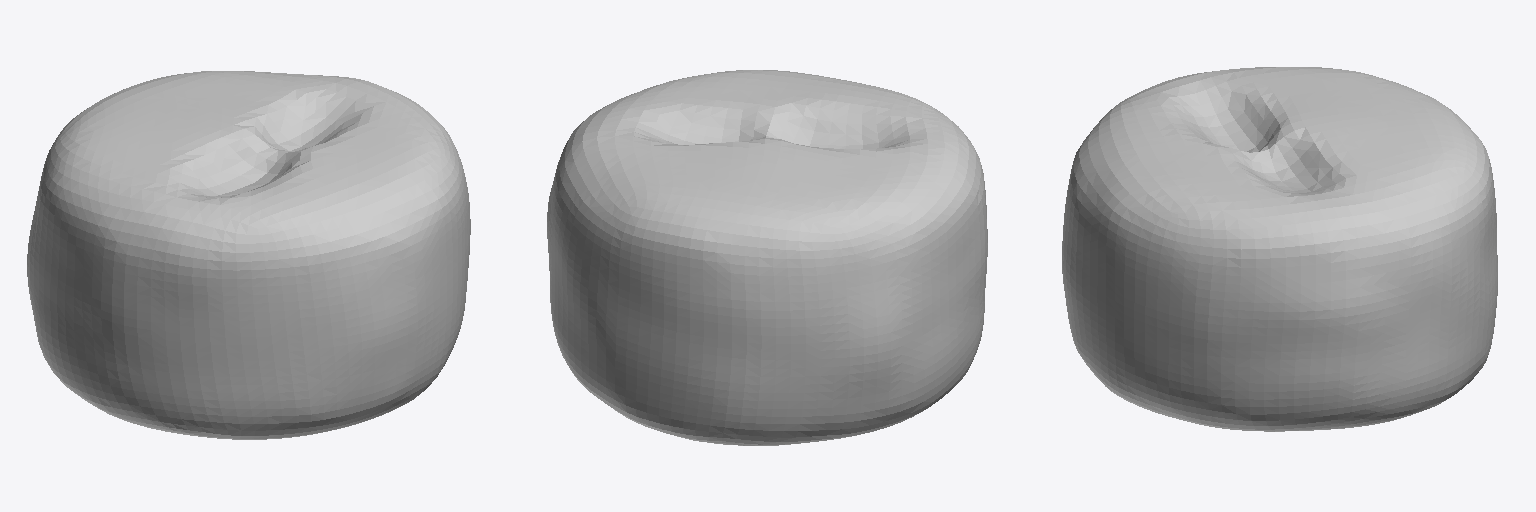
File: bol_step_2.obj
3 views of the same model, side by side, from view 1: azimuth 30°, elevation 25°; view 2: azimuth 150°, elevation 25°; view 3: azimuth 270°, elevation 25° (orthographic).
Visible parts, largest first — view 1: Mesh.002; view 2: Mesh.002; view 3: Mesh.002.
Part boxes in pixels (x1,y1,x2,y2): Mesh.002: (27,71,470,439); Mesh.002: (547,70,987,445); Mesh.002: (1062,67,1497,431).
Bounding box in the file's own units: 2.9 × 1.8 × 2.88.